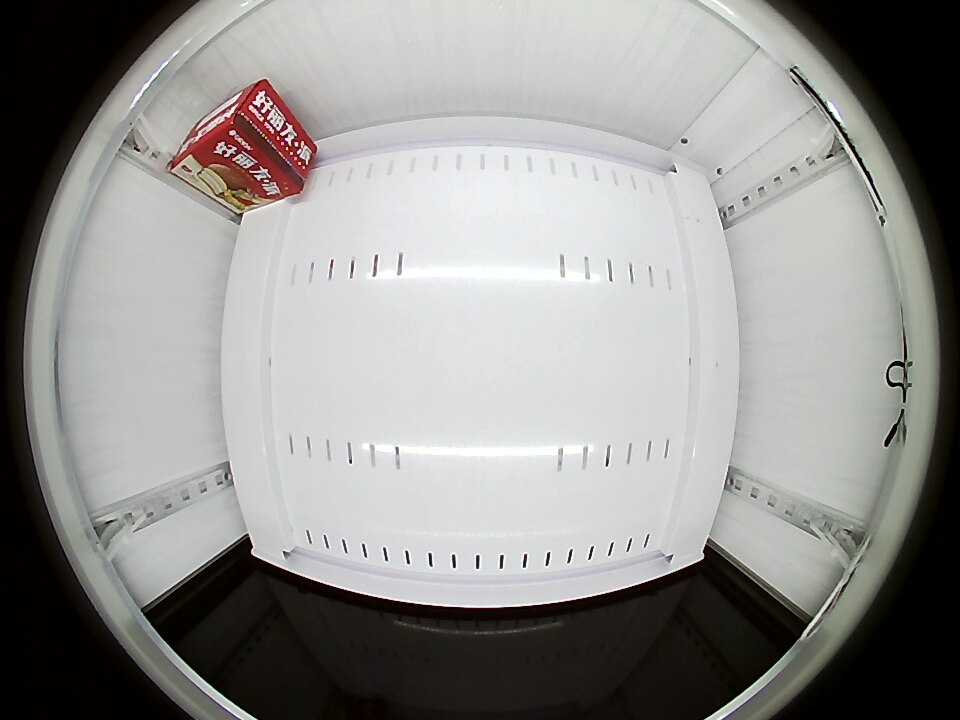haoliyou: (171, 78, 281, 188)
